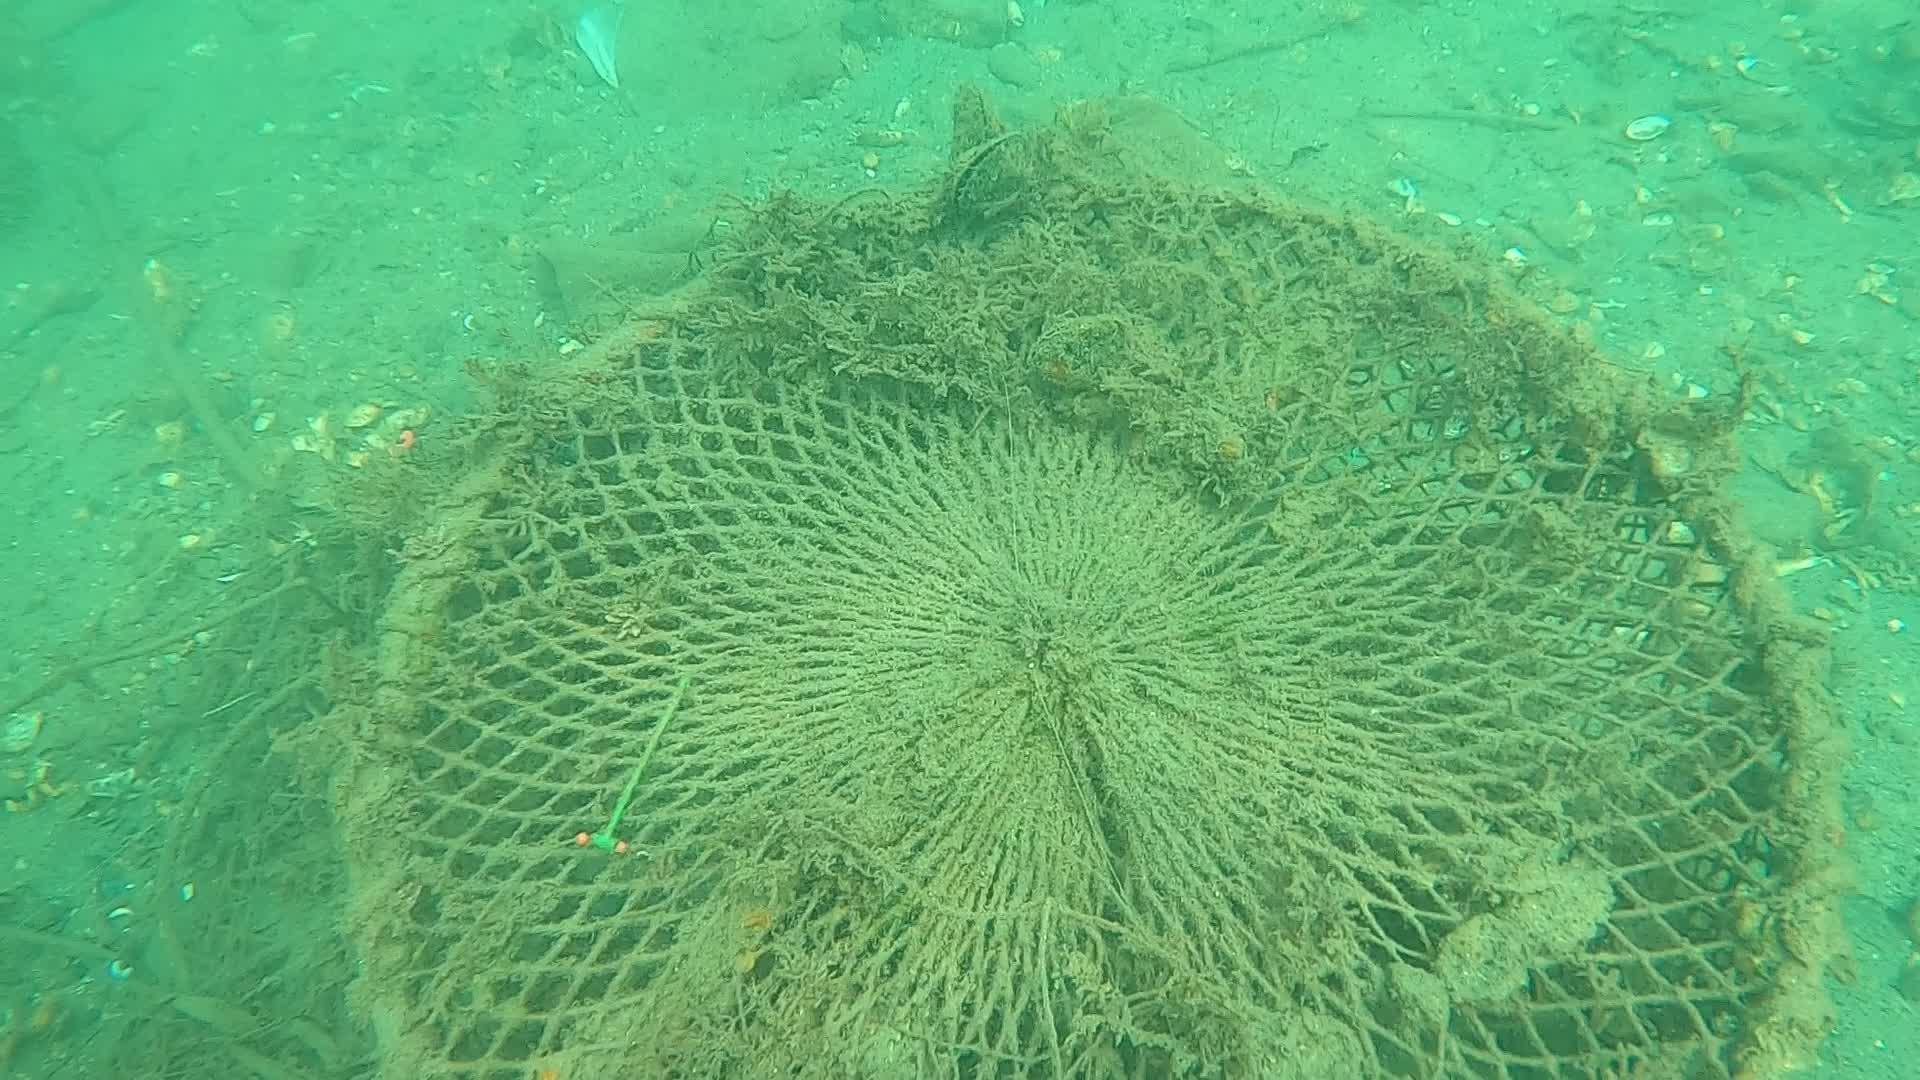circular fish trap: (319, 150, 1855, 1080)
